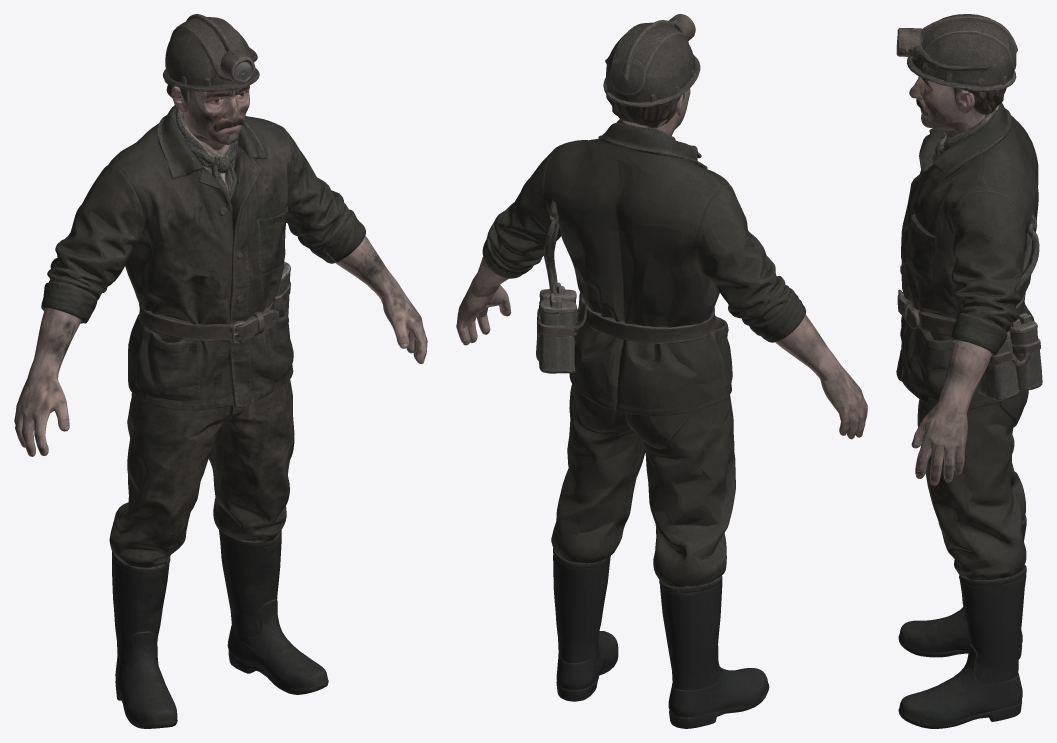
The model's file is miner_hauer__c0.glb.
The picture shows the model from 3 angles, left to right: view 1: azimuth 30°, elevation 25°; view 2: azimuth 150°, elevation 25°; view 3: azimuth 270°, elevation 25°; orthographic projection.
Size of the model in its own units: 1.2 by 1.9 by 0.3769.
1 material, 1 textured.
